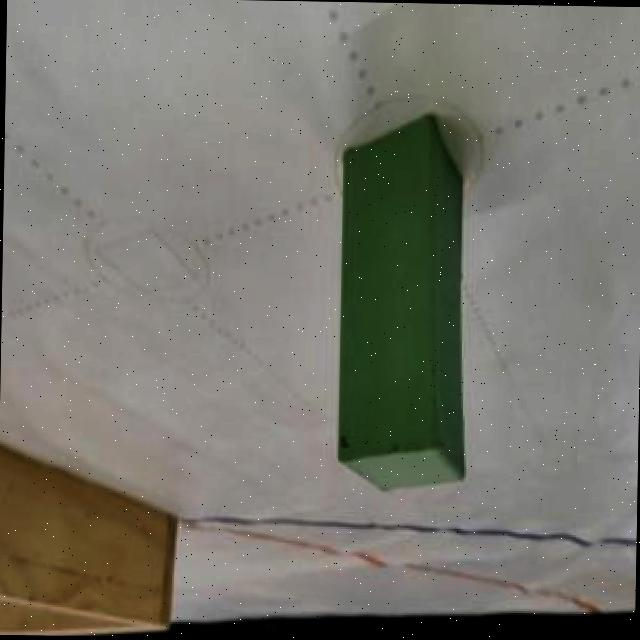greenbox: (334, 111, 471, 494)
